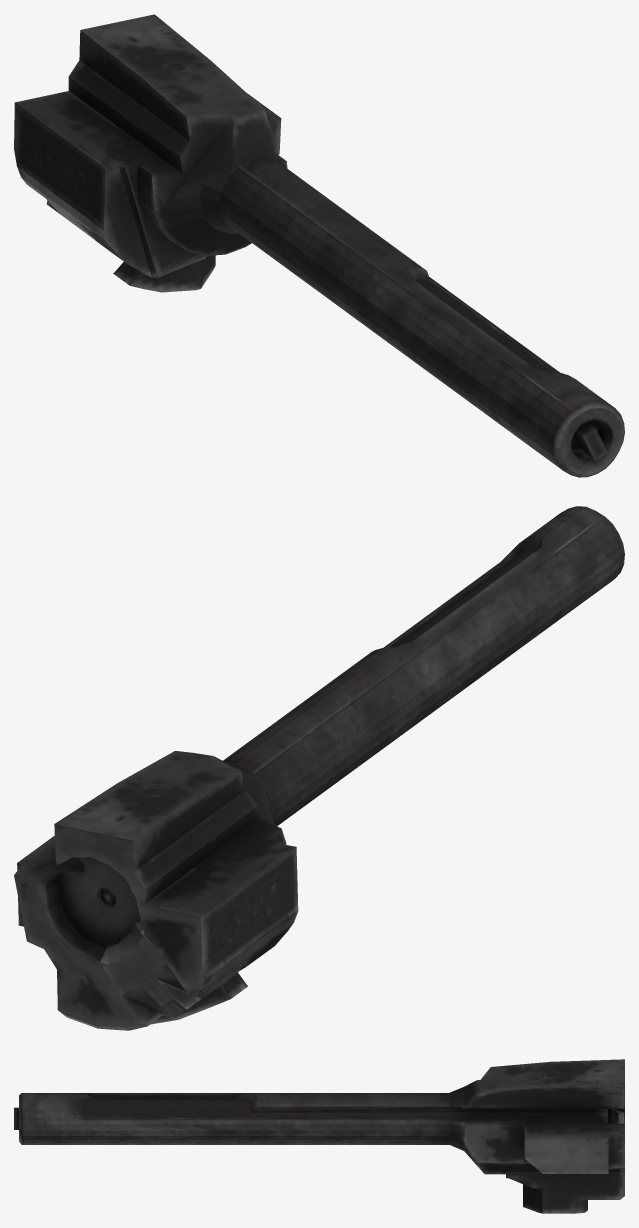
The picture shows the model from 3 angles, top to bottom: view 1: azimuth 30°, elevation 25°; view 2: azimuth 150°, elevation 25°; view 3: azimuth 270°, elevation 25°; orthographic projection. The views are drawn at different scales.
Visible parts, largest first — view 1: TW_583990e32459771419544dd2_PZ_Import; view 2: TW_583990e32459771419544dd2_PZ_Import; view 3: TW_583990e32459771419544dd2_PZ_Import.
Part boxes in pixels (left/top/right/bottom): TW_583990e32459771419544dd2_PZ_Import: left=14, top=14, right=624, bottom=477; TW_583990e32459771419544dd2_PZ_Import: left=14, top=506, right=624, bottom=1030; TW_583990e32459771419544dd2_PZ_Import: left=14, top=1059, right=624, bottom=1213.
Bounding box in the file's own units: 0.0134 × 0.0584 × 0.0142.
1 material, 1 textured.
